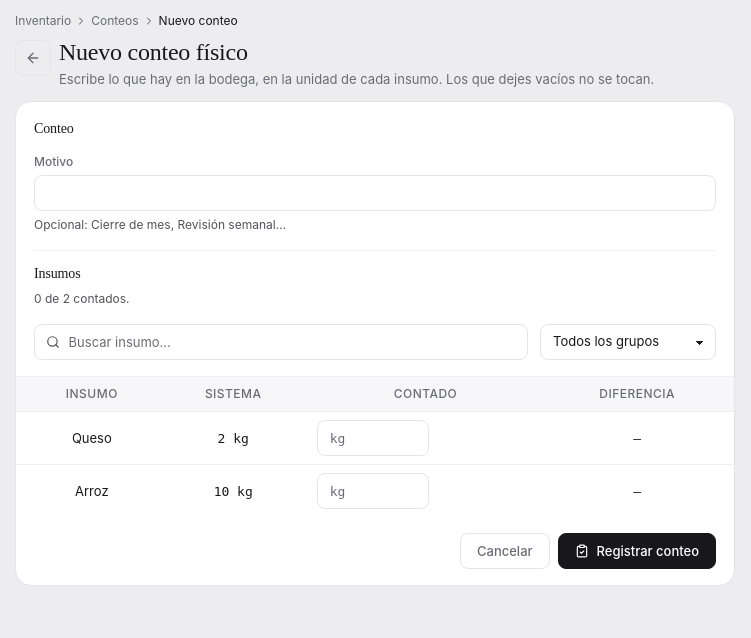
Scenario: Conteo físico › sin ningún insumo contado no envía y dice por qué
This screenshot has width=751, height=638.
Expected: the field named "Contado de Arroz en kg" is shown, x1=317 y1=473 x2=429 y2=509
Click the button "Registrar conteo" at coordinates (637, 551), box x1=558 y1=533 x2=716 y2=569
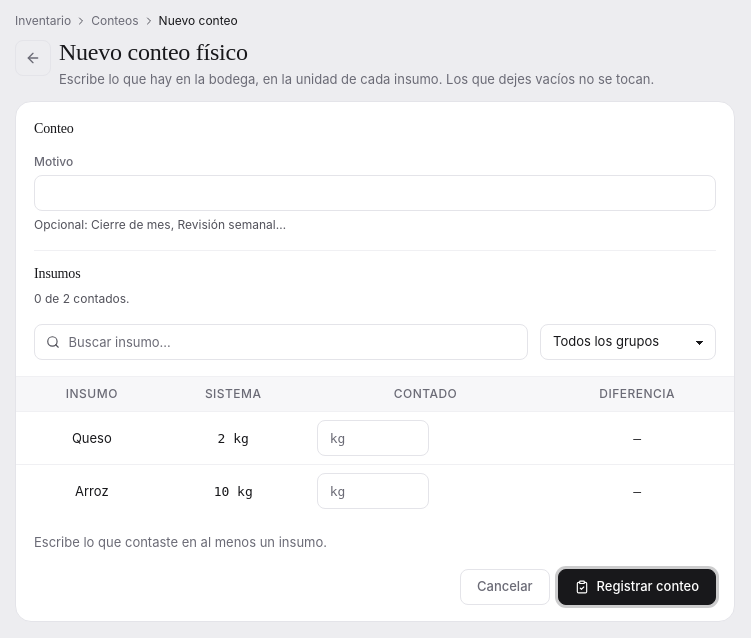
Expected: the message reads "Escribe lo que contaste en al menos un insumo.", x1=34 y1=534 x2=327 y2=550
